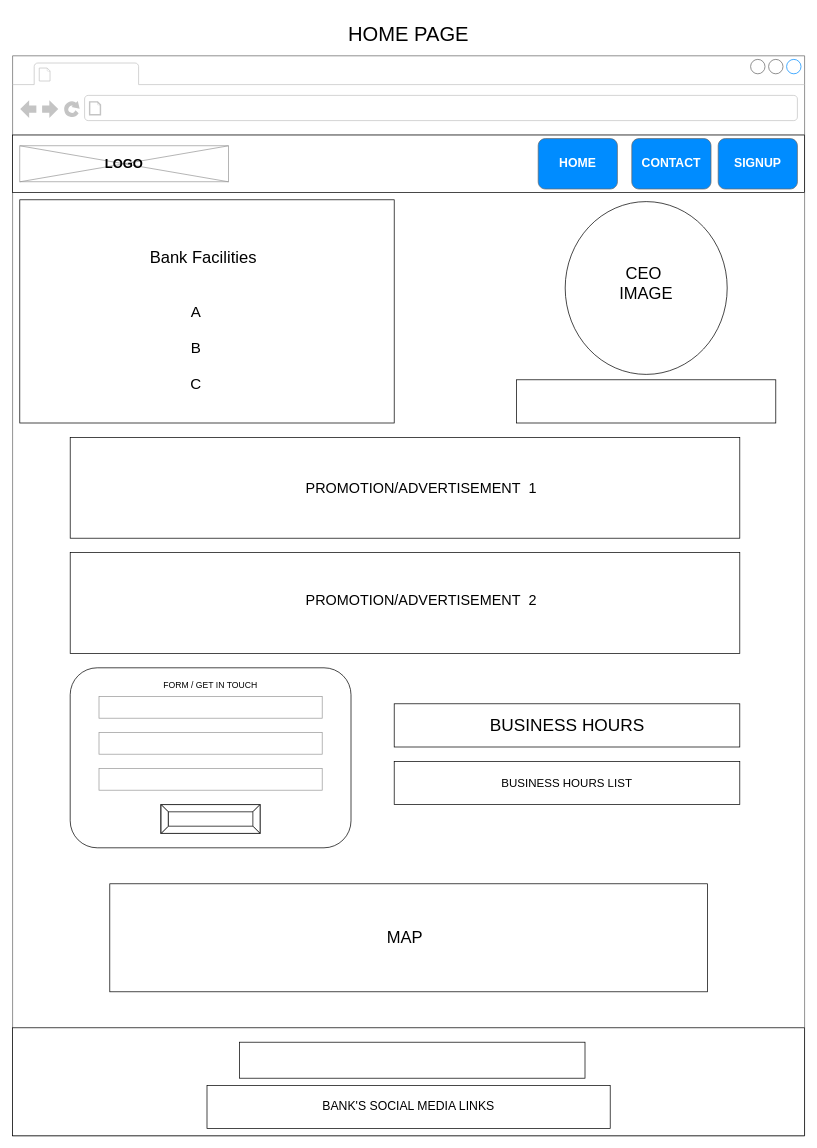
The diagram is 817 pixels wide and 1148 high, and some of its shapes have lost their labels. Each missing label, with the centre of its shape:
"Button" belongs at pixel 210 818.
"CEO's ADDRESS" belongs at pixel 646 401.
"https://www.draw.io" belongs at pixel 195 108.
"INSTITUTIONAL INFORMATION" belongs at pixel 412 1059.
"Page 1" belongs at pixel 95 73.
